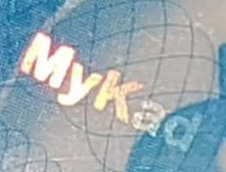hologram: (23, 29, 213, 158)
